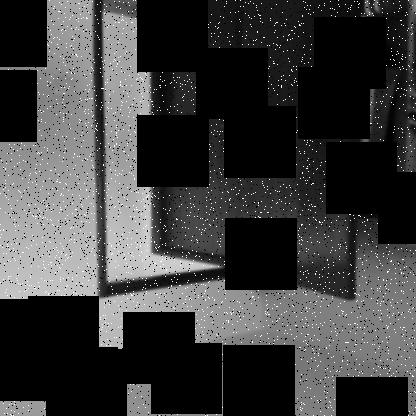Porte: (89, 0, 357, 302)
